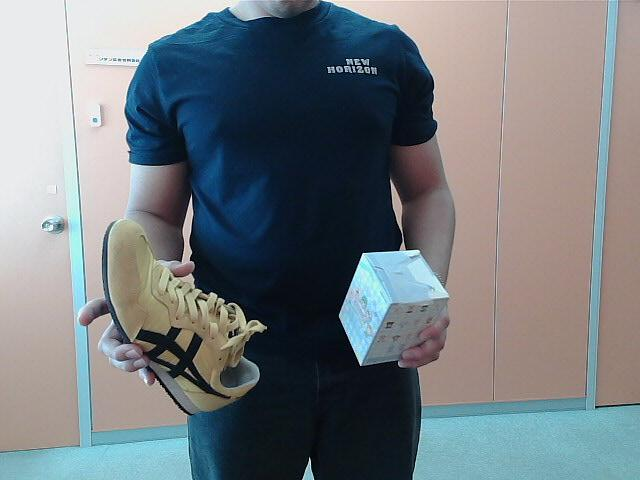Blind_box: (341, 252, 450, 369)
Shoes: (100, 222, 262, 419)
